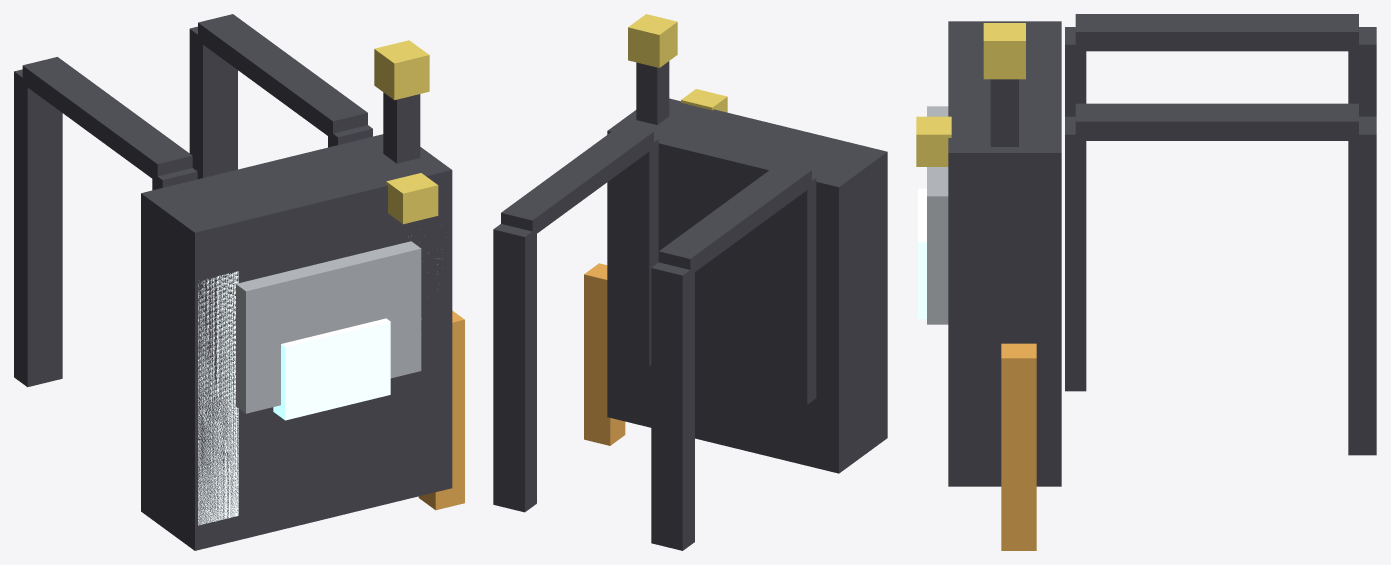
The model's file is mochila_protons.glb.
The picture shows the model from 3 angles, left to right: view 1: azimuth 30°, elevation 25°; view 2: azimuth 150°, elevation 25°; view 3: azimuth 270°, elevation 25°; orthographic projection. The views are drawn at different scales.
Parts seen in each view (by area): view 1: mochila_protons; view 2: mochila_protons; view 3: mochila_protons.
Part boxes in pixels (<box>): mochila_protons: <box>14,14,464,550</box>; mochila_protons: <box>493,14,887,550</box>; mochila_protons: <box>916,14,1376,550</box>.
Bounding box in the file's own units: 0.505 × 0.76 × 0.65.
